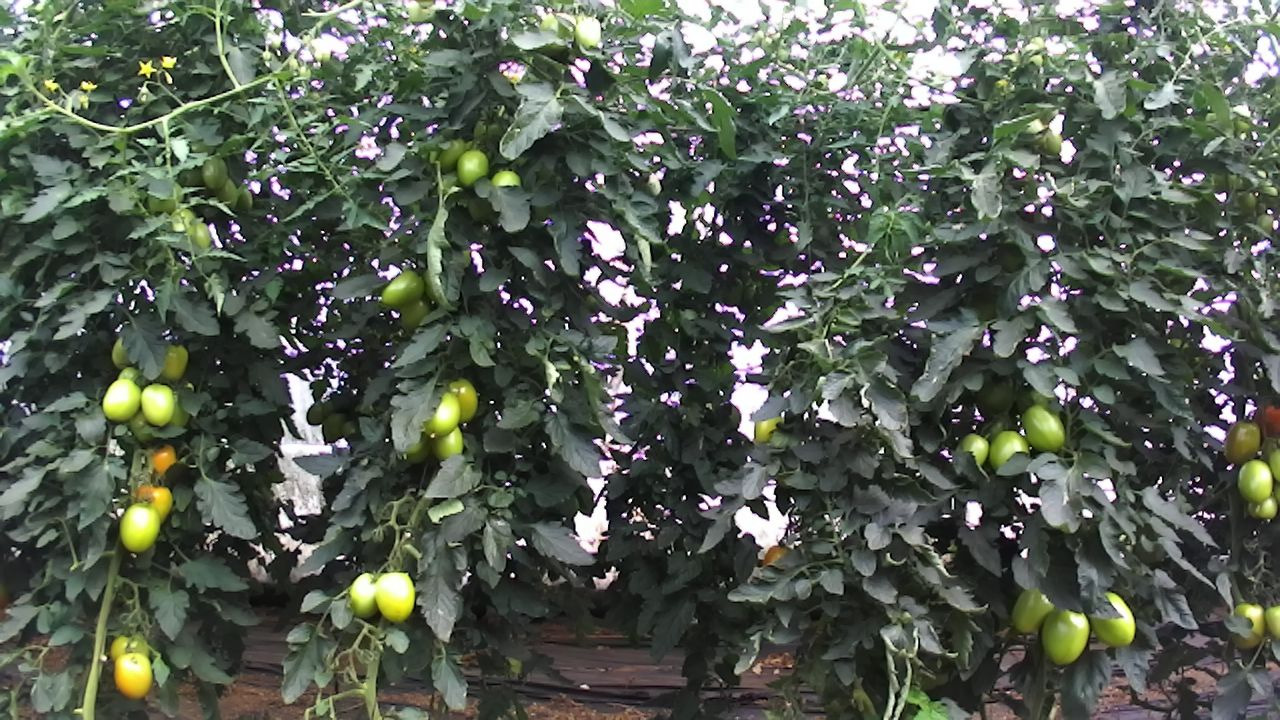tomato: (1038, 604, 1092, 668), (1086, 586, 1138, 648), (1008, 582, 1057, 635), (116, 500, 162, 555), (372, 570, 417, 624), (418, 387, 462, 442), (1020, 404, 1067, 454), (111, 649, 154, 702), (1227, 597, 1269, 651), (101, 376, 144, 425), (379, 267, 427, 308), (444, 374, 480, 428), (985, 426, 1029, 470), (1222, 419, 1262, 466), (1235, 456, 1274, 504), (138, 381, 175, 428), (159, 338, 192, 386), (429, 424, 467, 464), (347, 571, 378, 620), (455, 148, 490, 190), (955, 429, 994, 466), (200, 155, 230, 191)
